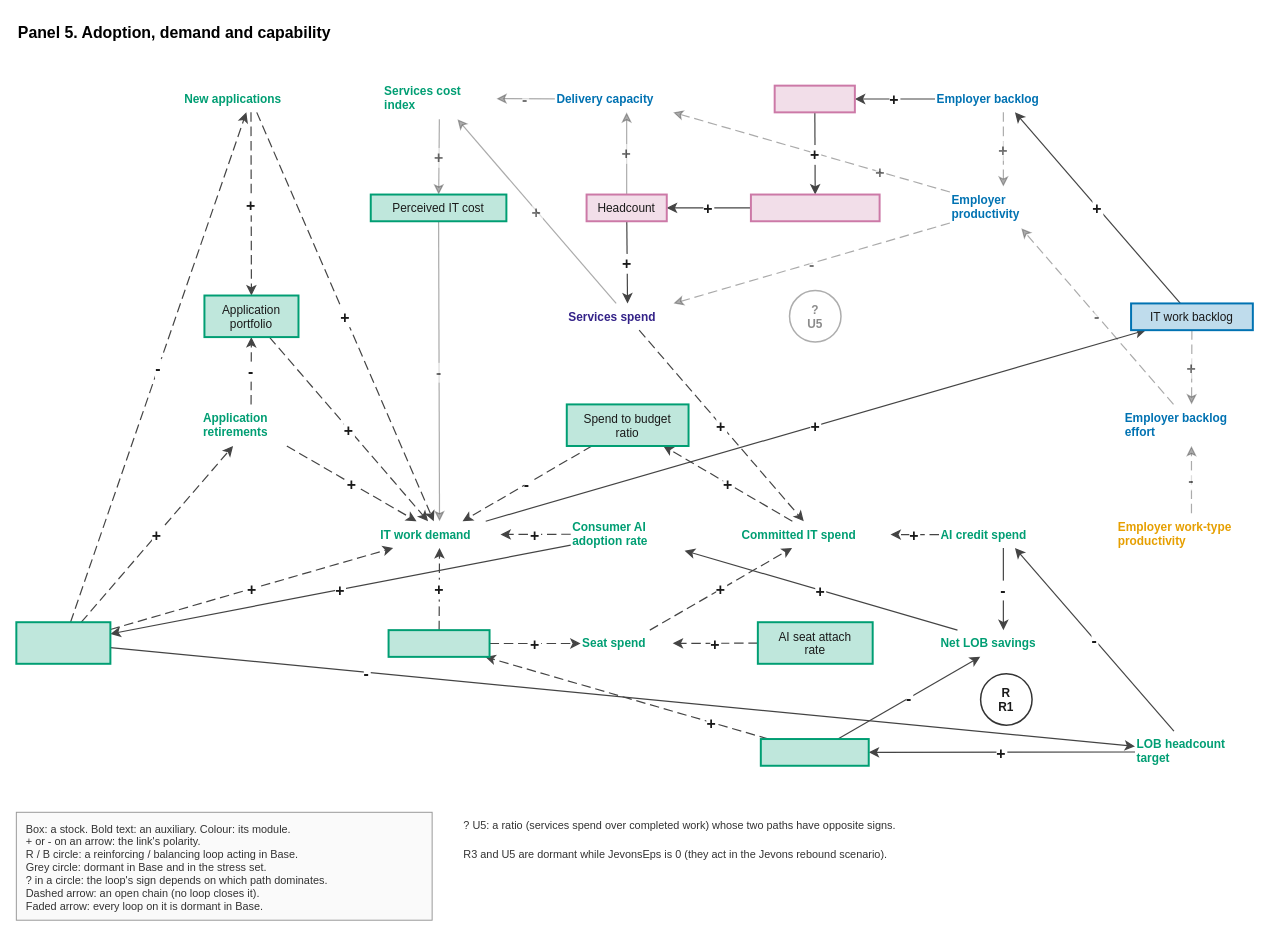
Some shapes in this 1283 by 937 pixel diagram are drawn without their labels. The shapes that lost their labels are listed below. From the top down, each one's box as (x1, y1, x2, y2) in pixels, then its label:
(773, 84, 855, 113): Vacancies
(749, 193, 880, 222): Onboarding staff
(15, 621, 111, 664): Consumer AI adoption
(387, 629, 490, 657): Billed seats
(759, 738, 869, 766): LOB headcount
